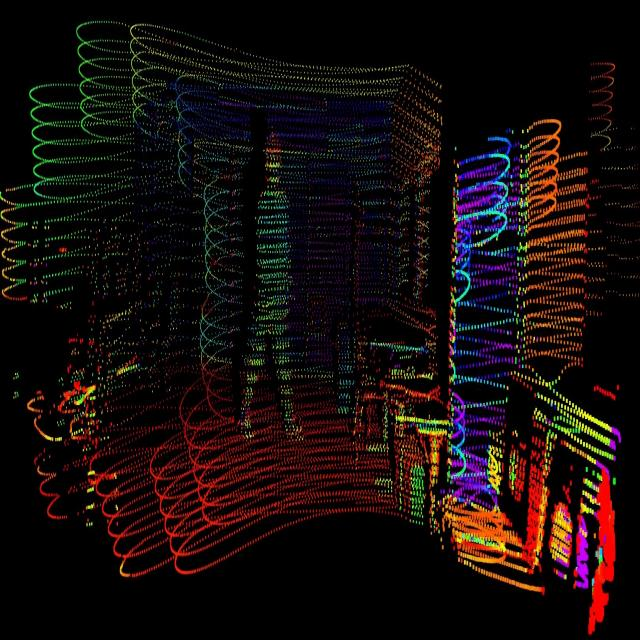human: (236, 128, 314, 452)
